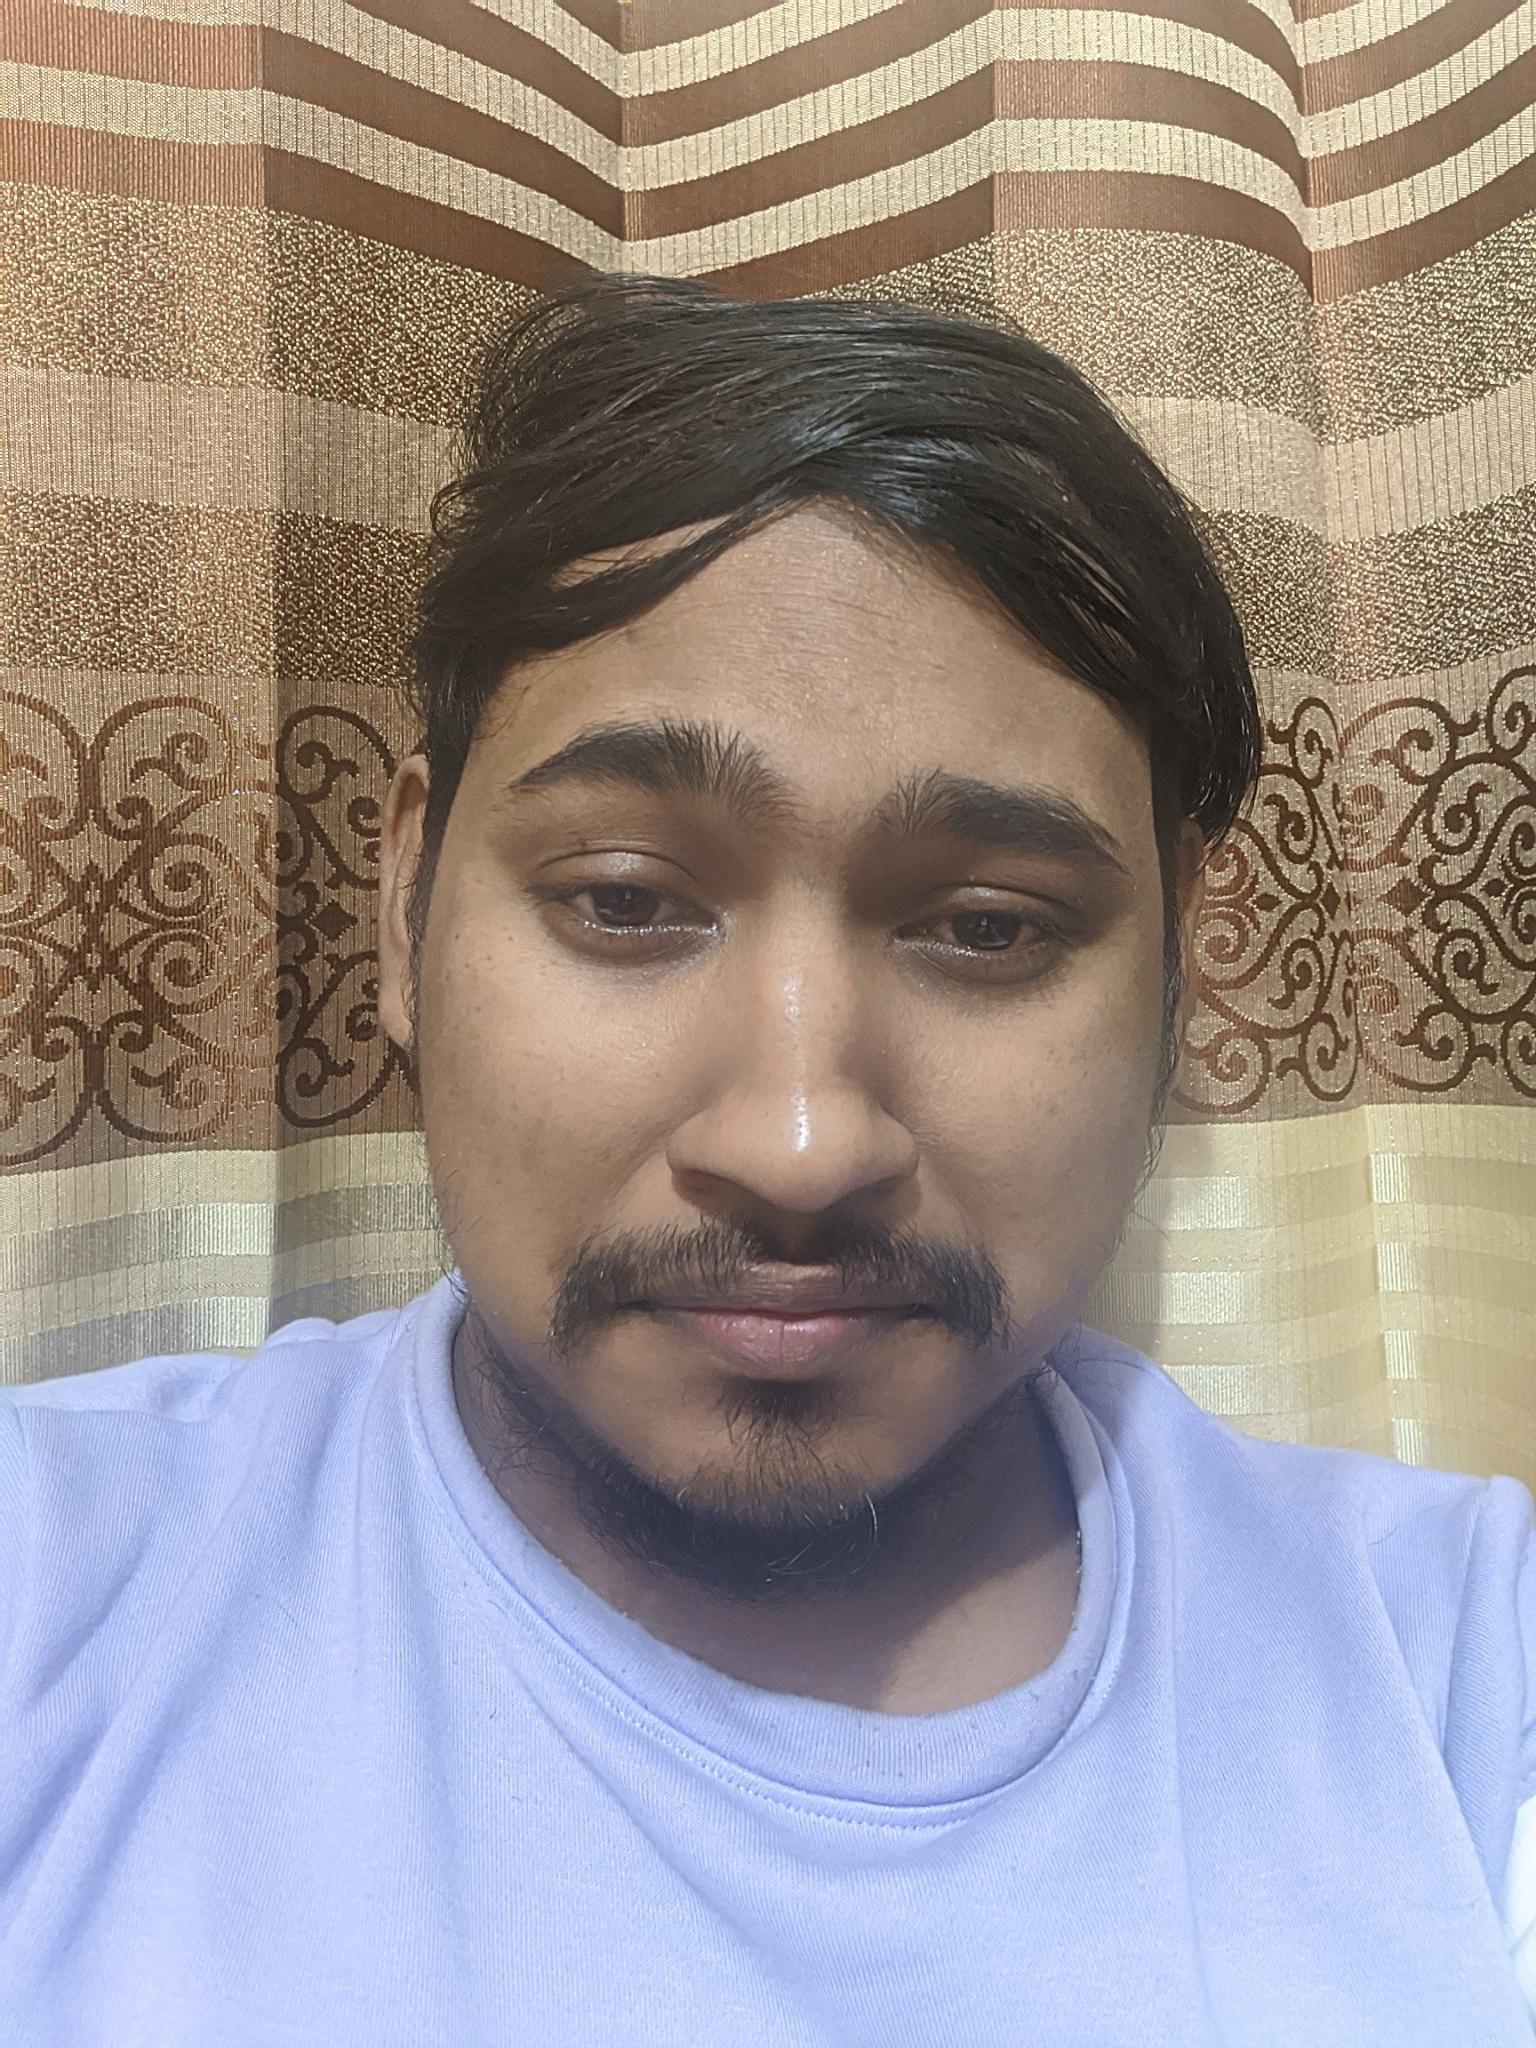Sad: (437, 632, 1152, 1550)
